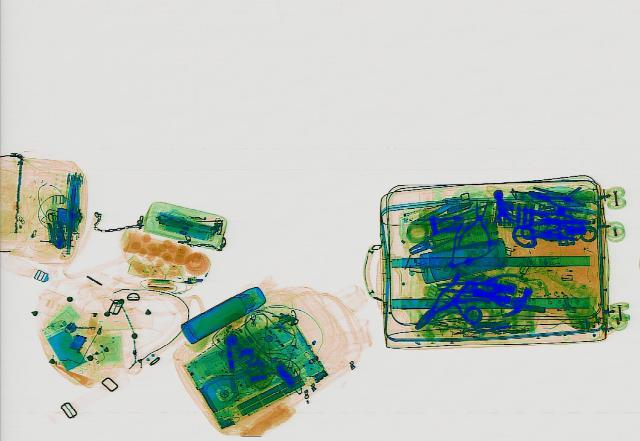Pliers: (404, 271, 478, 334), (450, 196, 502, 249), (402, 222, 466, 256), (524, 186, 588, 214)
